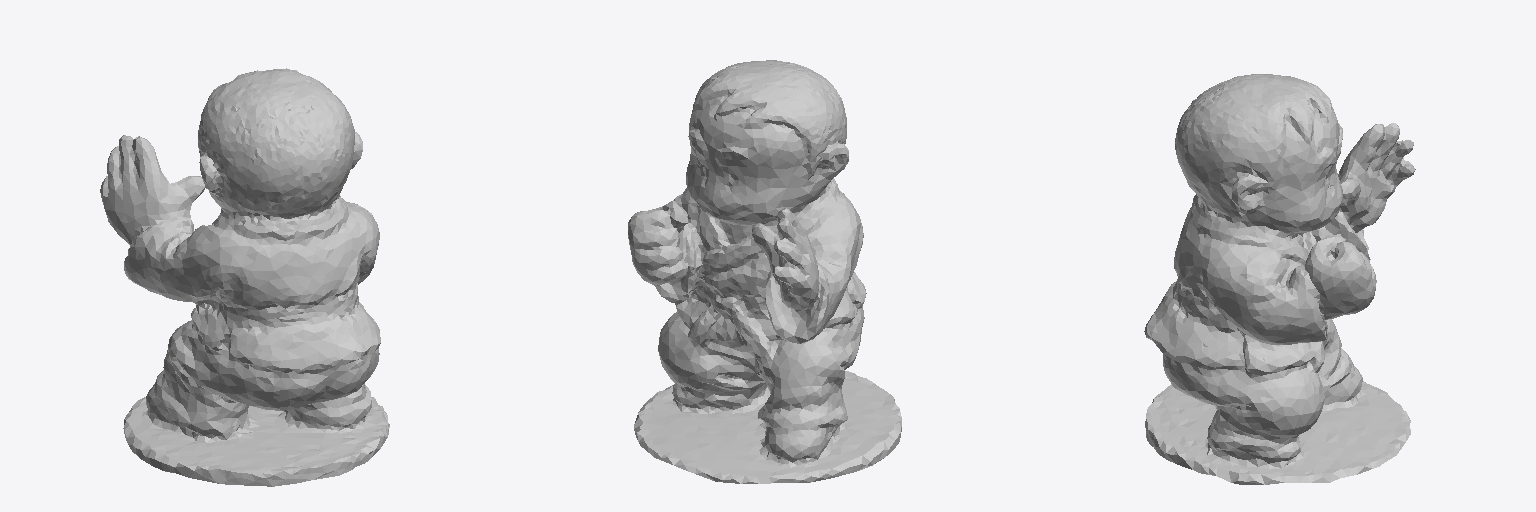
Rendered from judo.obj.
The picture shows the model from 3 angles: view 1: azimuth 30°, elevation 25°; view 2: azimuth 150°, elevation 25°; view 3: azimuth 270°, elevation 25°; orthographic projection.
Visible parts, largest first — view 1: Sketchfab_Model; view 2: Sketchfab_Model; view 3: Sketchfab_Model.
Part boxes in pixels (x1,y1,x2,y2): Sketchfab_Model: (100,68,389,486); Sketchfab_Model: (628,60,901,483); Sketchfab_Model: (1144,74,1415,484).
Size of the model in its own units: 4 by 5.77 by 4.05.